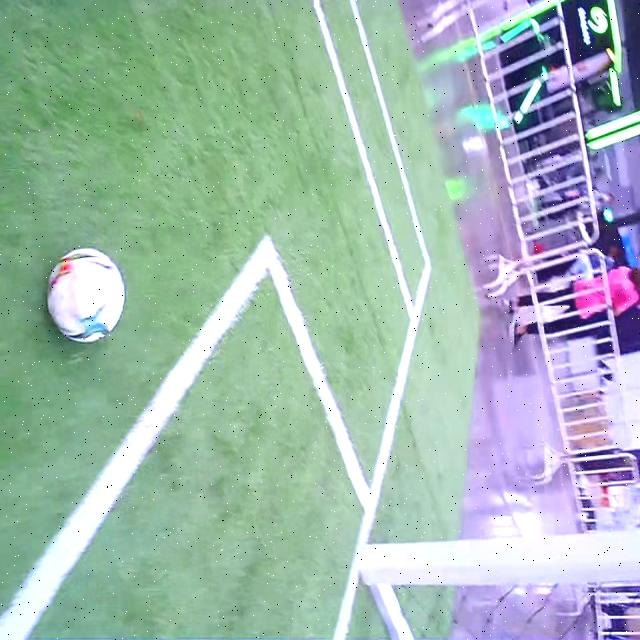ball: (47, 249, 124, 346)
